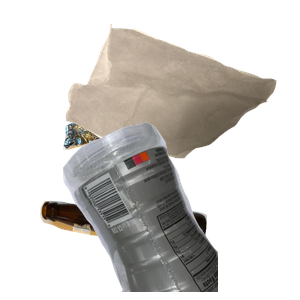glass: (37, 198, 236, 300)
metal: (61, 54, 225, 202)
plastic: (60, 120, 300, 300)
trash: (63, 21, 300, 172)
